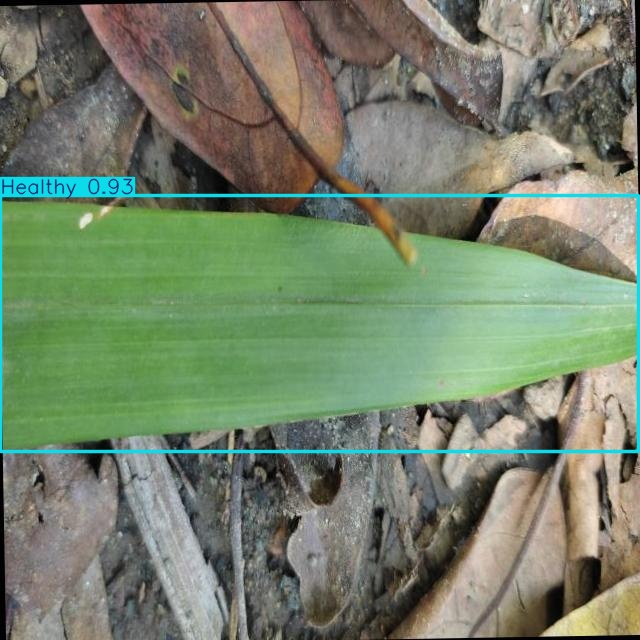Healthy: (0, 195, 639, 451)
